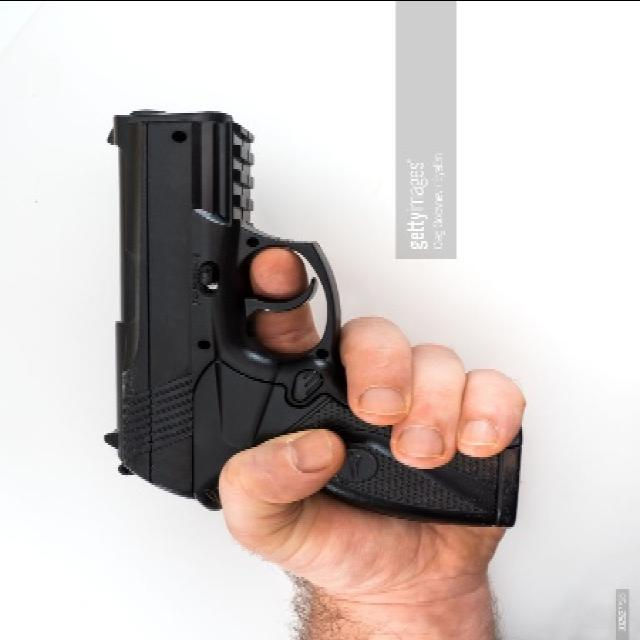handgun: (101, 105, 527, 537)
